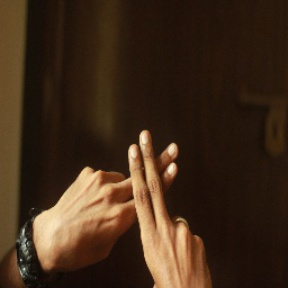F: (78, 123, 210, 256)
